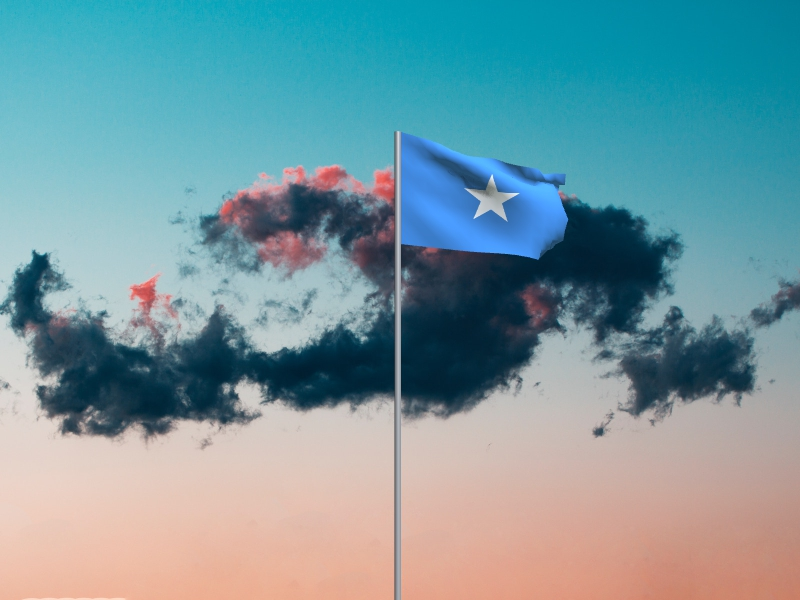so: (401, 133, 569, 262)
